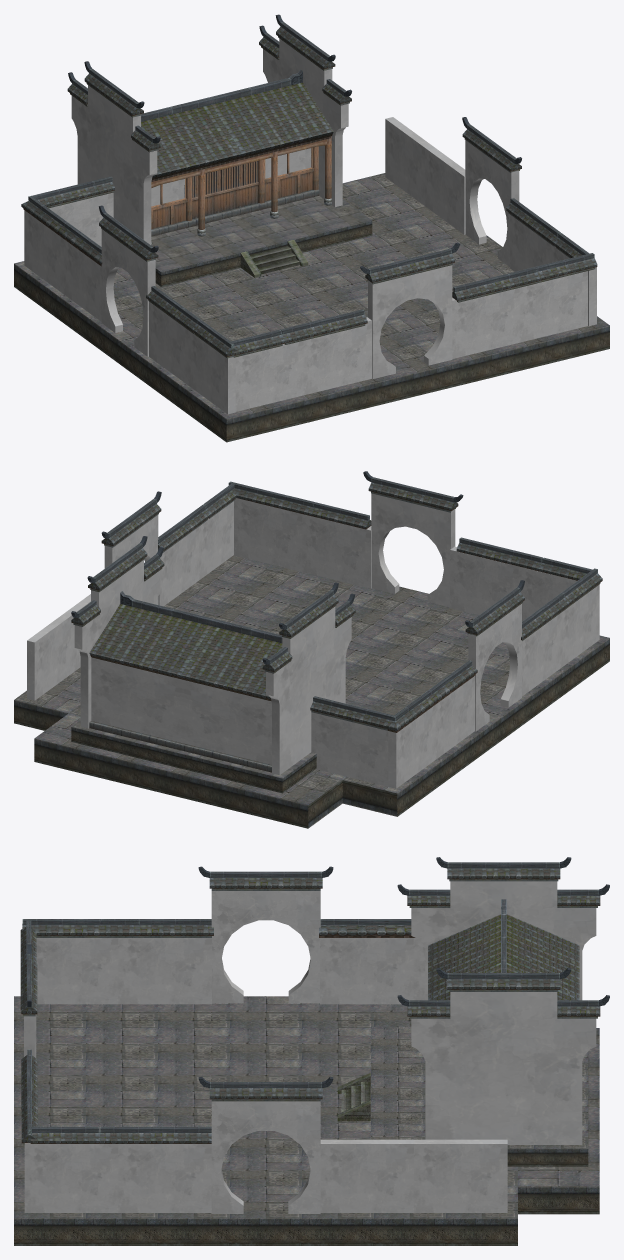
Rendered from house01.fbx.
The picture shows the model from 3 angles, top to bottom: view 1: azimuth 30°, elevation 25°; view 2: azimuth 150°, elevation 25°; view 3: azimuth 270°, elevation 25°; orthographic projection. The views are drawn at different scales.
Visible parts, largest first — view 1: Box156, Box011, Box092, Box121, Box122, Box001, Box117, Box112, Box118, Box111, Box084, Box099 (+27 smaller); view 2: Box156, Box162, Box011, Box122, Box001, Box121, Box111, Box092, Box118, Box112, Box123, Box116 (+23 smaller); view 3: Box156, Box084, Box117, Box116, Box112, Box092, Box001, Box011, Box111, Box113, Box099, Box114 (+23 smaller).
Boxes of the visible parts, <box> form: Box156: <box>14,173,609,442</box>; Box011: <box>141,82,333,179</box>; Box092: <box>151,185,372,286</box>; Box121: <box>235,317,371,411</box>; Box122: <box>452,271,587,358</box>; Box001: <box>71,85,157,244</box>; Box117: <box>385,117,465,234</box>; Box112: <box>149,301,235,414</box>; Box118: <box>368,265,452,379</box>; Box111: <box>24,210,101,321</box>; Box084: <box>263,38,348,207</box>; Box099: <box>101,229,155,356</box>; Box156: <box>14,555,609,828</box>; Box162: <box>91,657,271,764</box>; Box011: <box>89,604,282,700</box>; Box122: <box>234,498,371,588</box>; Box001: <box>266,606,351,775</box>; Box121: <box>450,546,576,621</box>; Box111: <box>388,676,474,788</box>; Box092: <box>71,720,316,793</box>; Box118: <box>371,493,455,607</box>; Box112: <box>522,584,599,696</box>; Box123: <box>311,712,388,786</box>; Box116: <box>158,501,233,606</box>; Box156: <box>14,996,599,1245</box>; Box084: <box>411,992,596,1144</box>; Box117: <box>320,1139,507,1212</box>; Box116: <box>24,1143,211,1212</box>; Box112: <box>36,938,211,1004</box>; Box092: <box>371,1026,588,1166</box>; Box001: <box>411,881,596,1000</box>; Box011: <box>428,914,579,1000</box>; Box111: <box>320,938,425,1004</box>; Box113: <box>211,1101,320,1213</box>; Box099: <box>211,891,320,1003</box>; Box114: <box>209,1088,322,1101</box>.
Size of the model in its own units: 2622 by 1217 by 2978.
